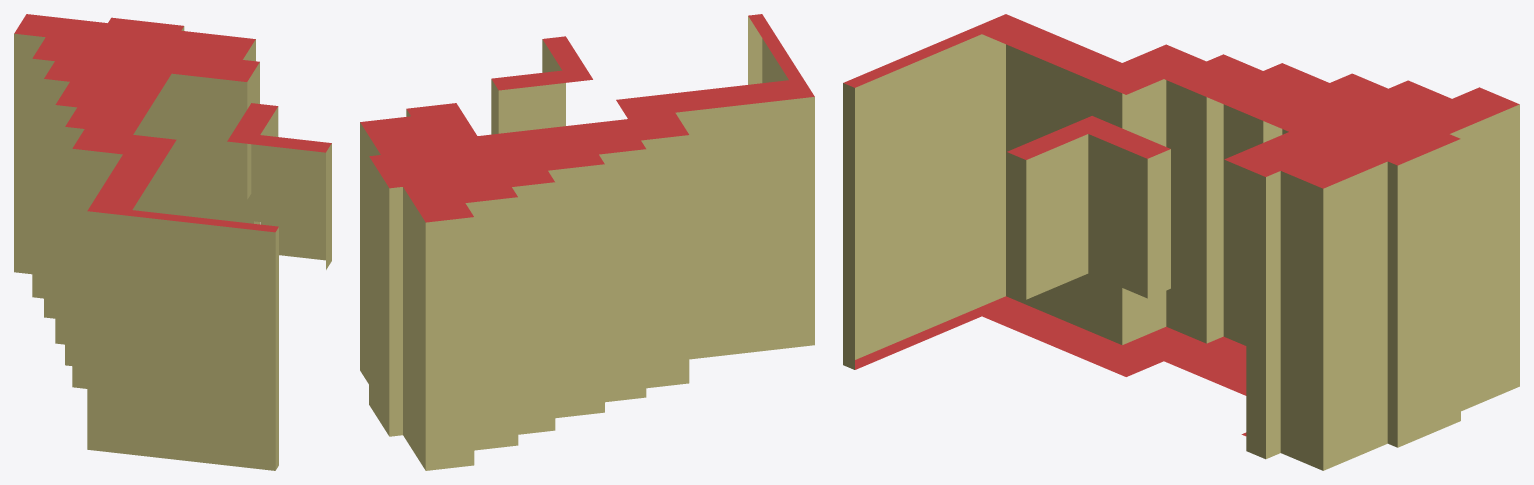
The picture shows the model from 3 angles, left to right: view 1: azimuth 30°, elevation 25°; view 2: azimuth 150°, elevation 25°; view 3: azimuth 270°, elevation 25°; orthographic projection. The views are drawn at different scales.
Parts seen in each view (by area): view 1: group_4, group_3; view 2: group_4, group_3; view 3: group_4, group_3, group_5.
Boxes of the visible parts, box(x1,y1,x2,y2) form: group_4: box(14, 26, 331, 470); group_3: box(14, 14, 331, 232); group_4: box(360, 16, 814, 470); group_3: box(360, 14, 814, 222); group_4: box(843, 34, 1519, 470); group_3: box(843, 14, 1519, 188); group_5: box(855, 296, 1246, 436).
Bounding box in the file's own units: 23.09 × 37.79 × 17.39.
